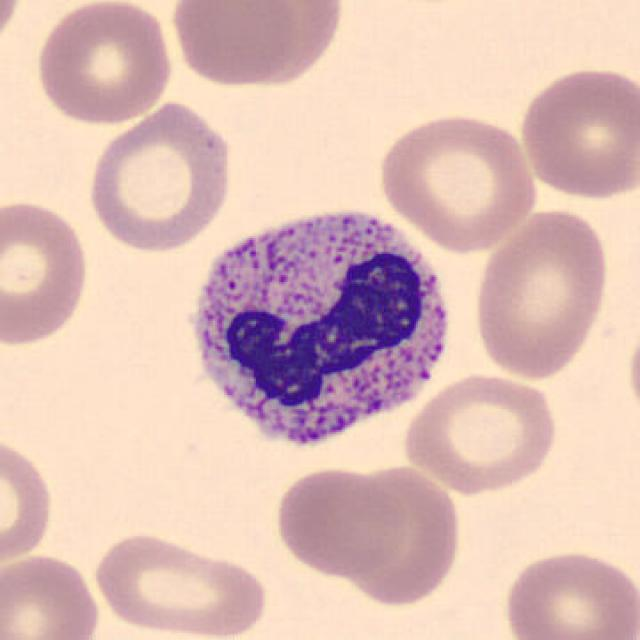Neutrophil: (176, 192, 464, 464)
RBC: (469, 205, 612, 382), (374, 107, 540, 254), (84, 99, 238, 254), (87, 527, 274, 640), (400, 369, 562, 497), (336, 462, 469, 606), (32, 0, 178, 127), (516, 61, 638, 202), (270, 464, 409, 578), (0, 194, 94, 351), (498, 545, 638, 640), (167, 0, 304, 90), (228, 0, 348, 88), (0, 550, 103, 640), (0, 430, 57, 570), (624, 310, 640, 436), (0, 0, 25, 56)
